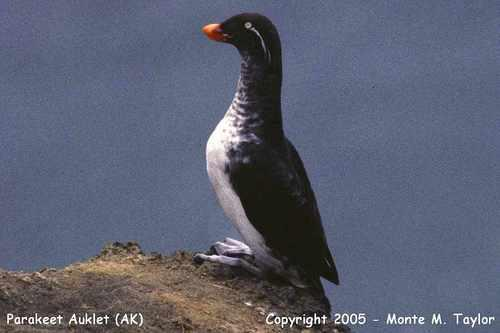007.Parakeet_Auklet: (194, 11, 342, 290)
